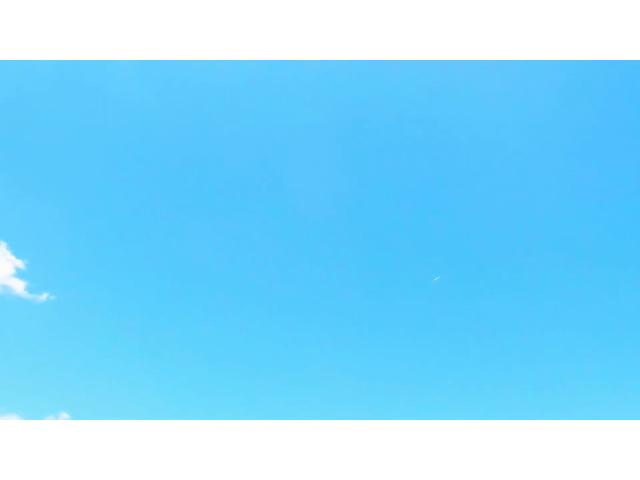Anti-Drone: (422, 265, 448, 287)
